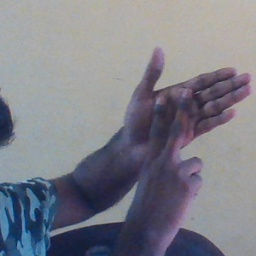N: (115, 44, 254, 201)
